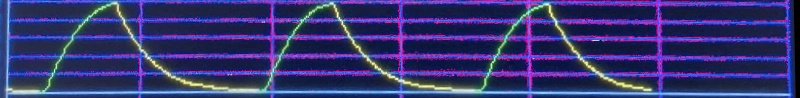normal_volume: (7, 0, 660, 95)
